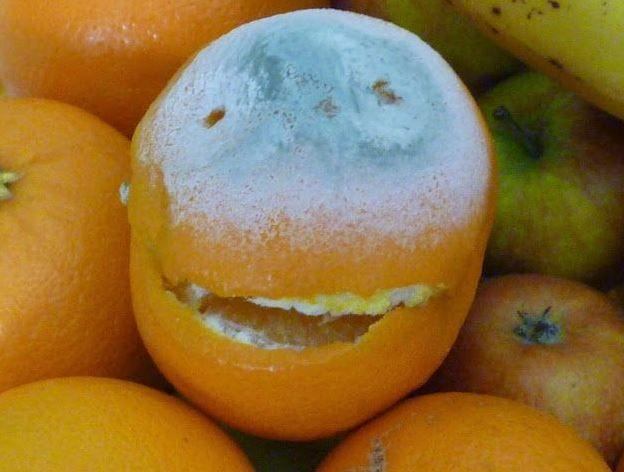Orange Rotten: (105, 5, 524, 460)
